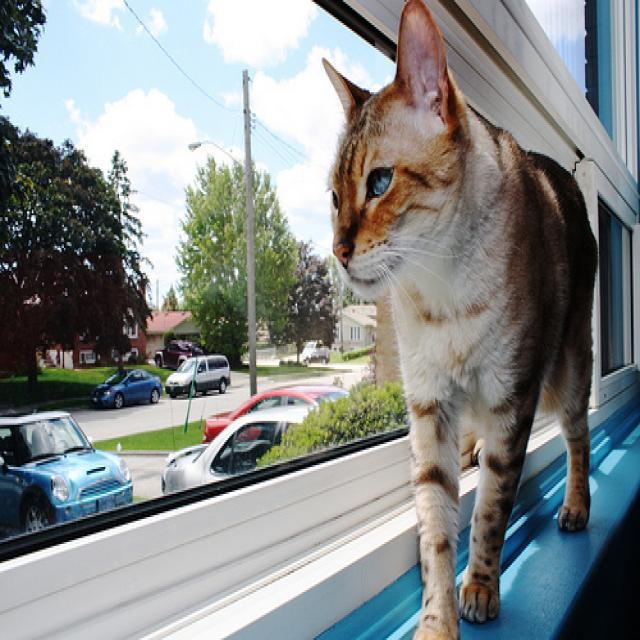Bengal: (313, 0, 463, 300)
